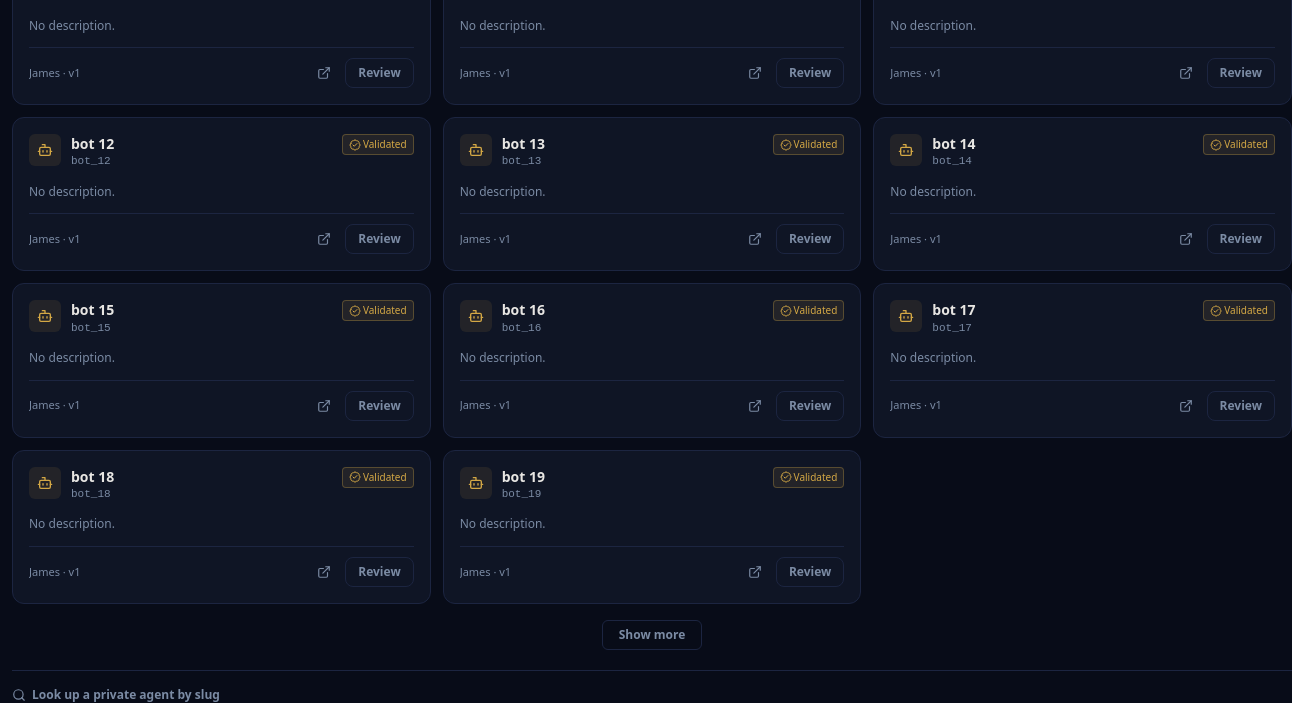
Test: pages on only while Botcamp sends full pages
(page scrolled)
Click the button "Show more": coordinates (652, 635) 602,620 -> 702,650
(page scrolled)
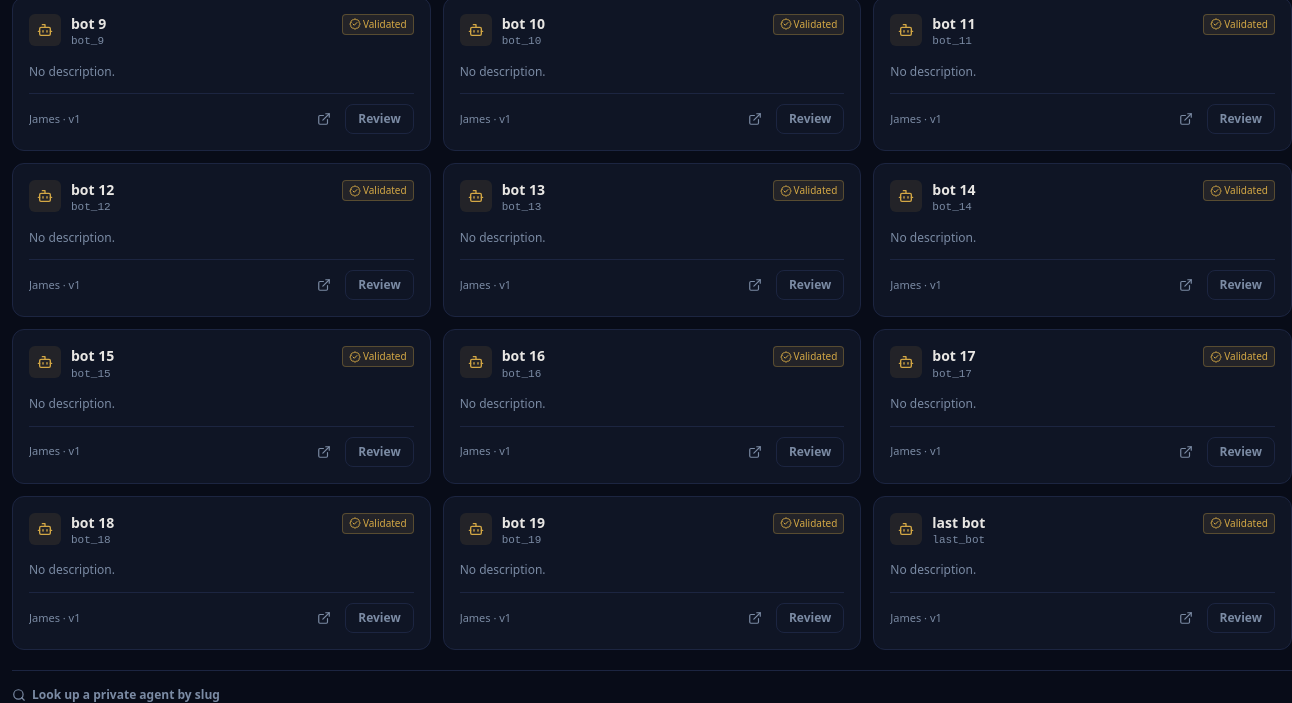
Check: the text "Show more" is gone
